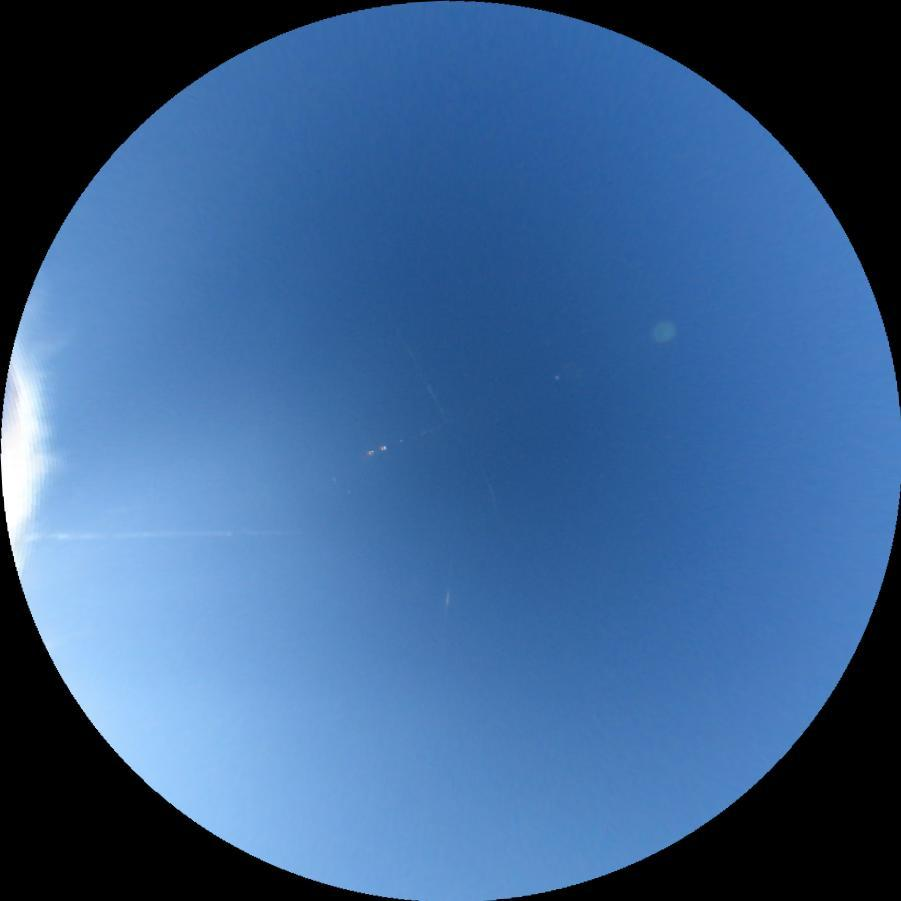parasite: (395, 328, 448, 419), (28, 527, 302, 542), (484, 473, 499, 521), (442, 582, 450, 621)
